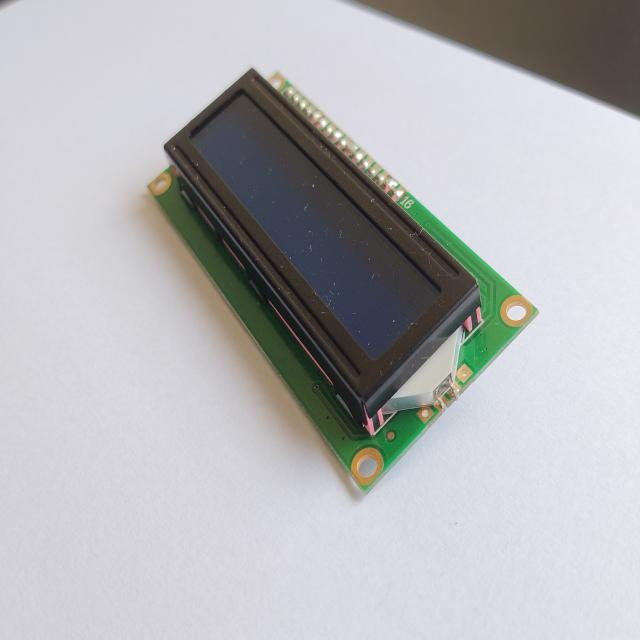lcd: (136, 48, 550, 510)
